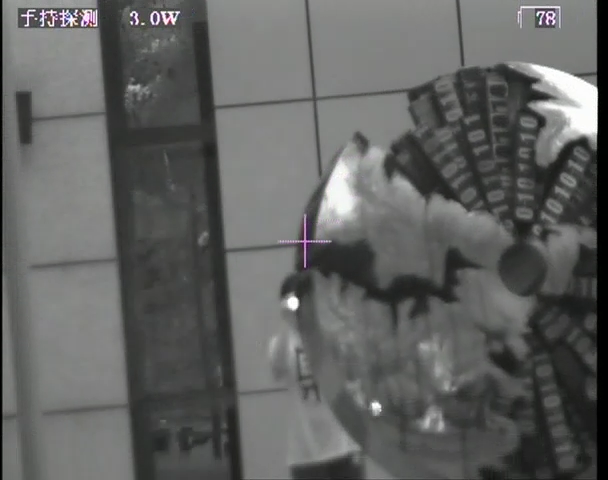my: (283, 296, 303, 313)
